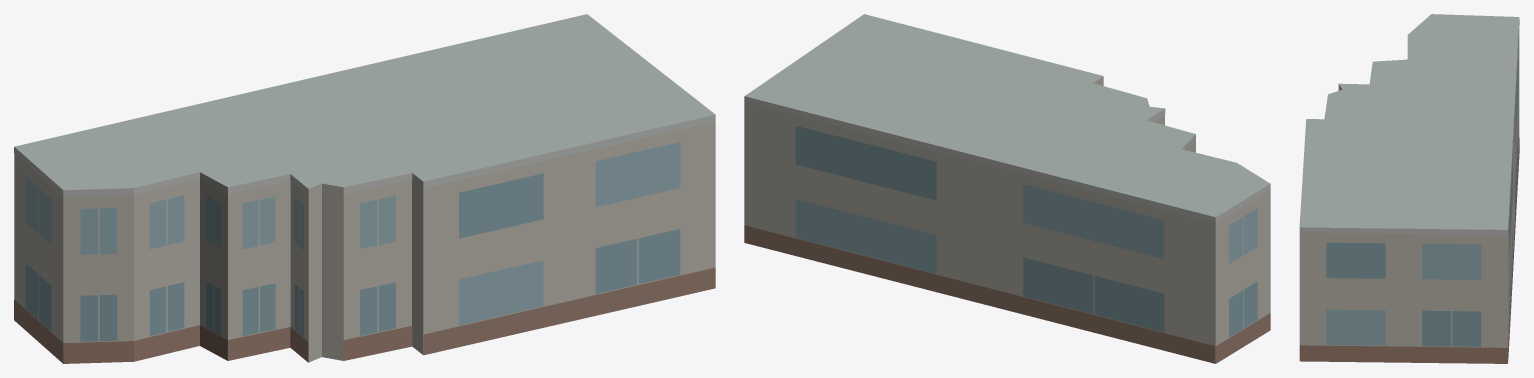
File: survey-upis-32689398.glb
3 renders of one model, left to right at view 1: azimuth 30°, elevation 25°; view 2: azimuth 150°, elevation 25°; view 3: azimuth 270°, elevation 25°, orthographic. The views are drawn at different scales.
Parts seen in each view (by area): view 1: survey-upis-32689398.tmp; view 2: survey-upis-32689398.tmp; view 3: survey-upis-32689398.tmp.
Boxes of the visible parts, x1,y1,x2,y2 form: survey-upis-32689398.tmp: (14,14,715,363); survey-upis-32689398.tmp: (744,14,1270,363); survey-upis-32689398.tmp: (1299,14,1519,363).
Bounding box in the file's own units: 21.09 × 6.1 × 9.09.
